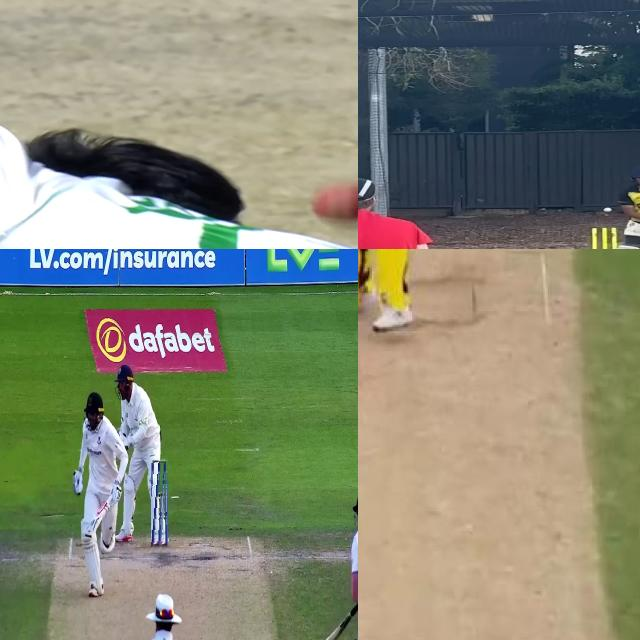Cricket ball: (309, 181, 358, 227), (602, 206, 614, 213)
Stumps: (151, 457, 169, 554), (590, 228, 620, 249)
